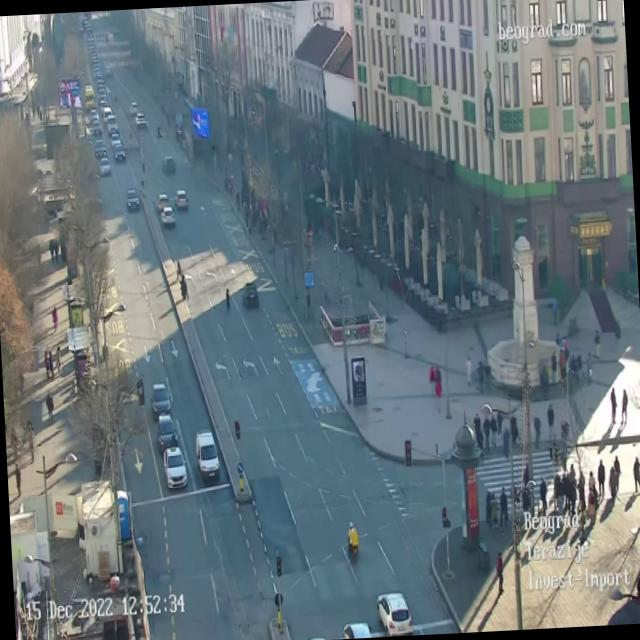car: (376, 591, 412, 634), (198, 432, 220, 482), (163, 448, 189, 489), (158, 412, 180, 454), (153, 381, 173, 422), (242, 283, 260, 307), (346, 623, 370, 639), (126, 188, 140, 207), (112, 145, 126, 164), (101, 159, 112, 180), (162, 209, 176, 225), (92, 140, 106, 156), (177, 189, 188, 207), (164, 156, 174, 174), (106, 117, 118, 132), (134, 112, 144, 125), (160, 194, 168, 209), (131, 100, 137, 114)
